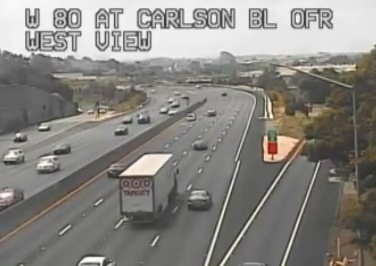car: (188, 190, 210, 209), (106, 164, 125, 178)
truck: (119, 153, 176, 225)
